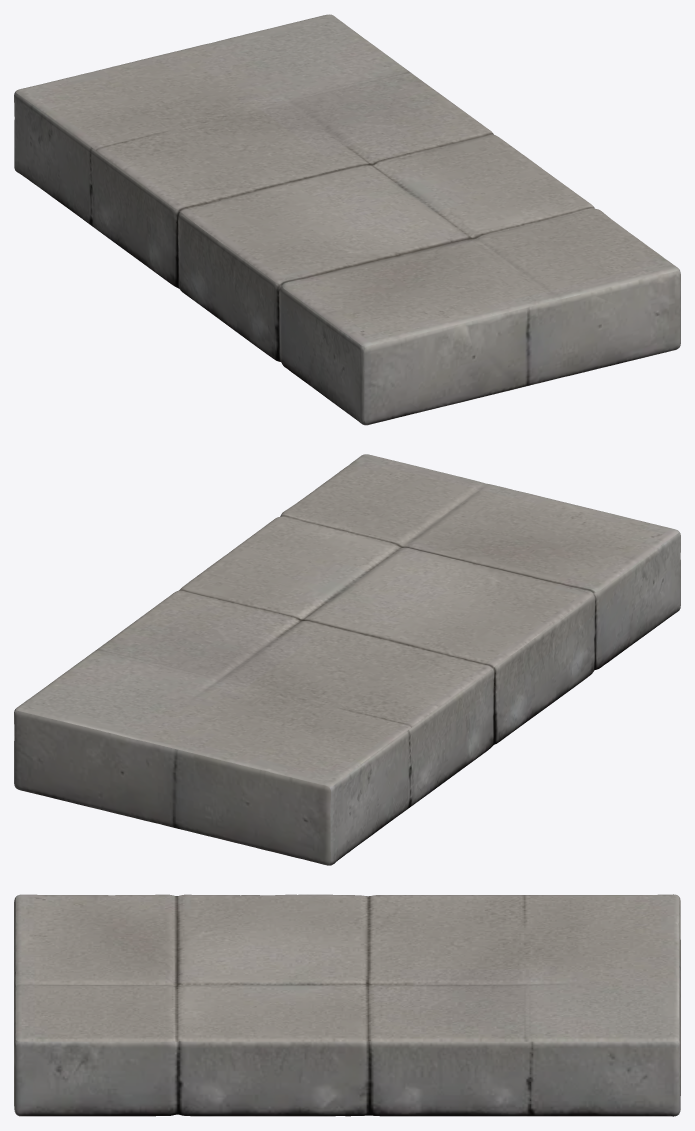
Rendered from approach-stone-3-generated-2026-05-15T00-25-27-710Z.low.glb.
3 renders of one model, top to bottom at view 1: azimuth 30°, elevation 25°; view 2: azimuth 150°, elevation 25°; view 3: azimuth 270°, elevation 25°, orthographic. The views are drawn at different scales.
Visible parts, largest first — view 1: temp_mesh.ply; view 2: temp_mesh.ply; view 3: temp_mesh.ply.
Part boxes in pixels (bbox=[...]): temp_mesh.ply: bbox=[14, 14, 680, 425]; temp_mesh.ply: bbox=[14, 454, 680, 865]; temp_mesh.ply: bbox=[14, 894, 680, 1116].
Bounding box in the file's own units: 1.04 × 0.2544 × 1.97.
Materials: 1 (1 with a texture image).
